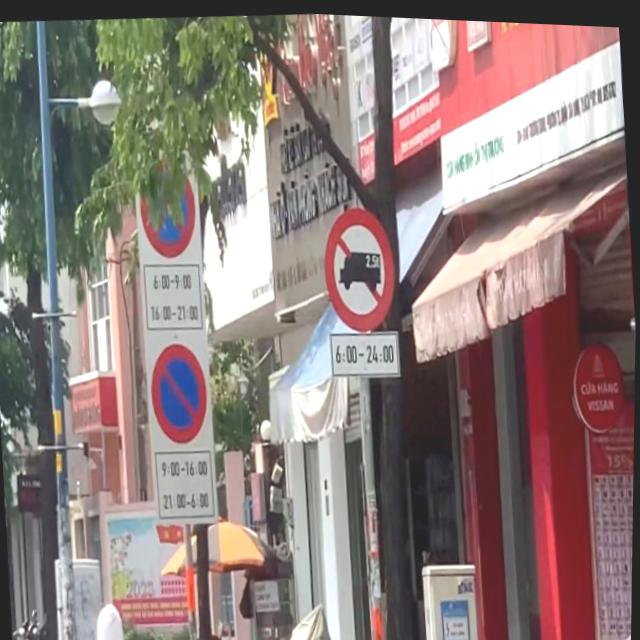Cam do xe: (148, 338, 212, 445)
Cam dung xe va do xe: (137, 152, 200, 260)
Cam xe tai tren 2_5: (319, 199, 401, 333)
